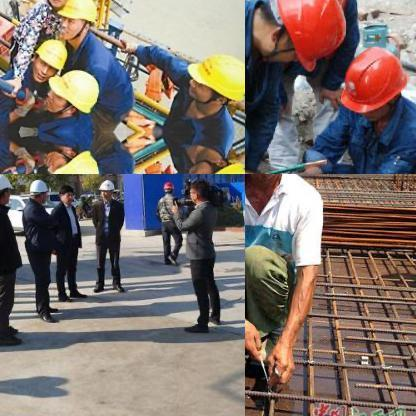Helmet: (338, 38, 412, 122), (263, 0, 354, 68), (183, 47, 244, 114), (39, 67, 97, 119), (29, 35, 69, 82), (39, 142, 98, 173), (52, 0, 100, 38), (182, 148, 244, 173), (27, 178, 47, 200), (0, 174, 12, 203), (98, 177, 112, 197), (162, 180, 174, 194), (242, 178, 244, 190)
